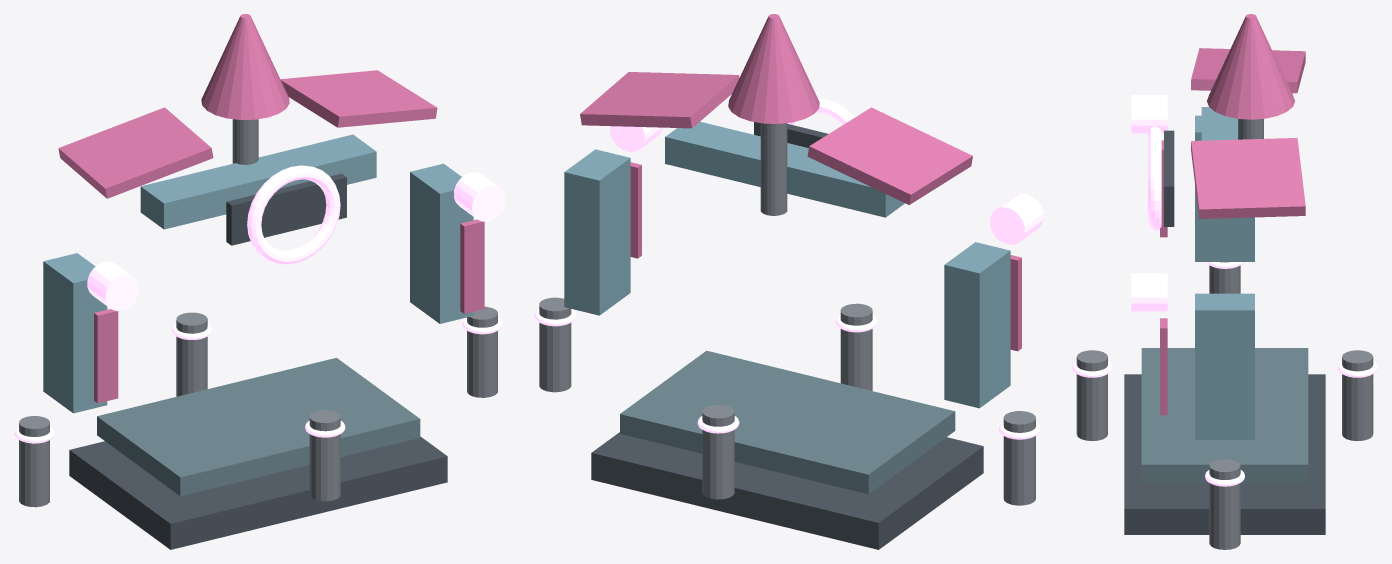
Rendered from asset.glb.
The picture shows the model from 3 angles, left to right: view 1: azimuth 30°, elevation 25°; view 2: azimuth 150°, elevation 25°; view 3: azimuth 270°, elevation 25°; orthographic projection. The views are drawn at different scales.
Visible parts, largest first — view 1: RaisedDeck, Foundation, CrossBeam, CanopyWing_-1, Pylon_-1, Pylon_1, CanopyWing_1, TopMarker, SignPanel, IdentityRing, Bollard_3, Bollard_2 (+7 smaller); view 2: RaisedDeck, Foundation, Pylon_1, Pylon_-1, CanopyWing_-1, CrossBeam, CanopyWing_1, TopMarker, Bollard_2, Bollard_1, Bollard_0, CenterMast (+6 smaller); view 3: RaisedDeck, Foundation, Pylon_1, CanopyWing_1, TopMarker, Bollard_1, Bollard_3, Bollard_0, CanopyWing_-1, Pylon_-1, CrossBeam, Lamp_1 (+6 smaller).
Boxes of the visible parts, x1,y1,x2,y2 form: RaisedDeck: (97,358,420,496); Foundation: (69,436,447,549); CrossBeam: (140,134,376,229); CanopyWing_-1: (58,107,213,198); Pylon_-1: (43,253,107,413); Pylon_1: (410,163,473,323); CanopyWing_1: (280,70,437,127); TopMarker: (201,14,289,119); SignPanel: (226,173,346,245); IdentityRing: (247,165,340,264); Bollard_3: (309,410,340,501); Bollard_2: (19,416,49,507); RaisedDeck: (620,350,955,494); Foundation: (591,432,983,549); Pylon_1: (564,149,630,315); Pylon_-1: (944,242,1010,408); CanopyWing_-1: (807,107,972,204); CrossBeam: (665,121,904,217); CanopyWing_1: (580,72,739,128); TopMarker: (728,14,819,123); Bollard_2: (1003,411,1035,505); Bollard_1: (702,405,734,499); Bollard_0: (539,297,571,392); CenterMast: (760,123,787,215); RaisedDeck: (1141,348,1308,483); Foundation: (1124,374,1325,534); Pylon_1: (1195,293,1254,439); CanopyWing_1: (1191,138,1305,218); TopMarker: (1207,14,1294,119); Bollard_1: (1342,350,1373,441); Bollard_3: (1076,350,1107,441); Bollard_0: (1209,459,1240,549); CanopyWing_-1: (1191,48,1305,93); Pylon_-1: (1195,115,1254,261); CrossBeam: (1201,107,1248,236); Lamp_1: (1131,273,1167,311).
Size of the model in its own units: 4.27 by 3.83 by 2.35.
